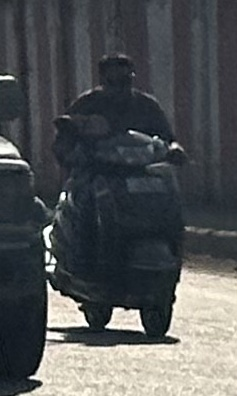BikeWithRider: (28, 42, 202, 345)
NoHelmet: (91, 49, 140, 102)
